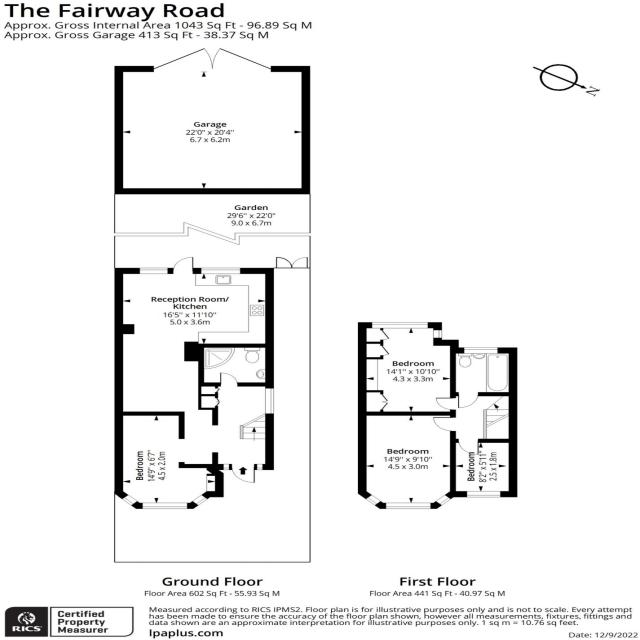DOOR: (230, 463, 257, 484), (173, 256, 196, 274), (459, 438, 480, 455), (433, 417, 457, 431), (459, 393, 479, 408), (436, 397, 456, 410)
ROOM: (114, 253, 274, 416), (113, 411, 225, 510), (357, 412, 456, 511), (358, 321, 460, 415), (448, 438, 518, 499)
WINDOW: (372, 322, 428, 329), (142, 502, 187, 510), (386, 502, 431, 509), (264, 387, 275, 415), (201, 267, 241, 274), (464, 347, 498, 354), (139, 267, 168, 275), (467, 491, 501, 497), (121, 495, 138, 506), (366, 495, 382, 505), (193, 495, 207, 505), (433, 330, 442, 339)
